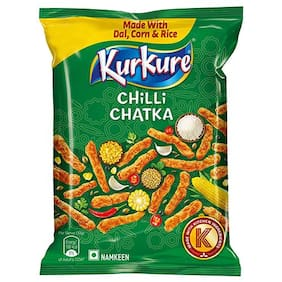kurkure: (86, 42, 201, 88)
plastic: (35, 3, 246, 278)
wrapper: (42, 8, 232, 271)
